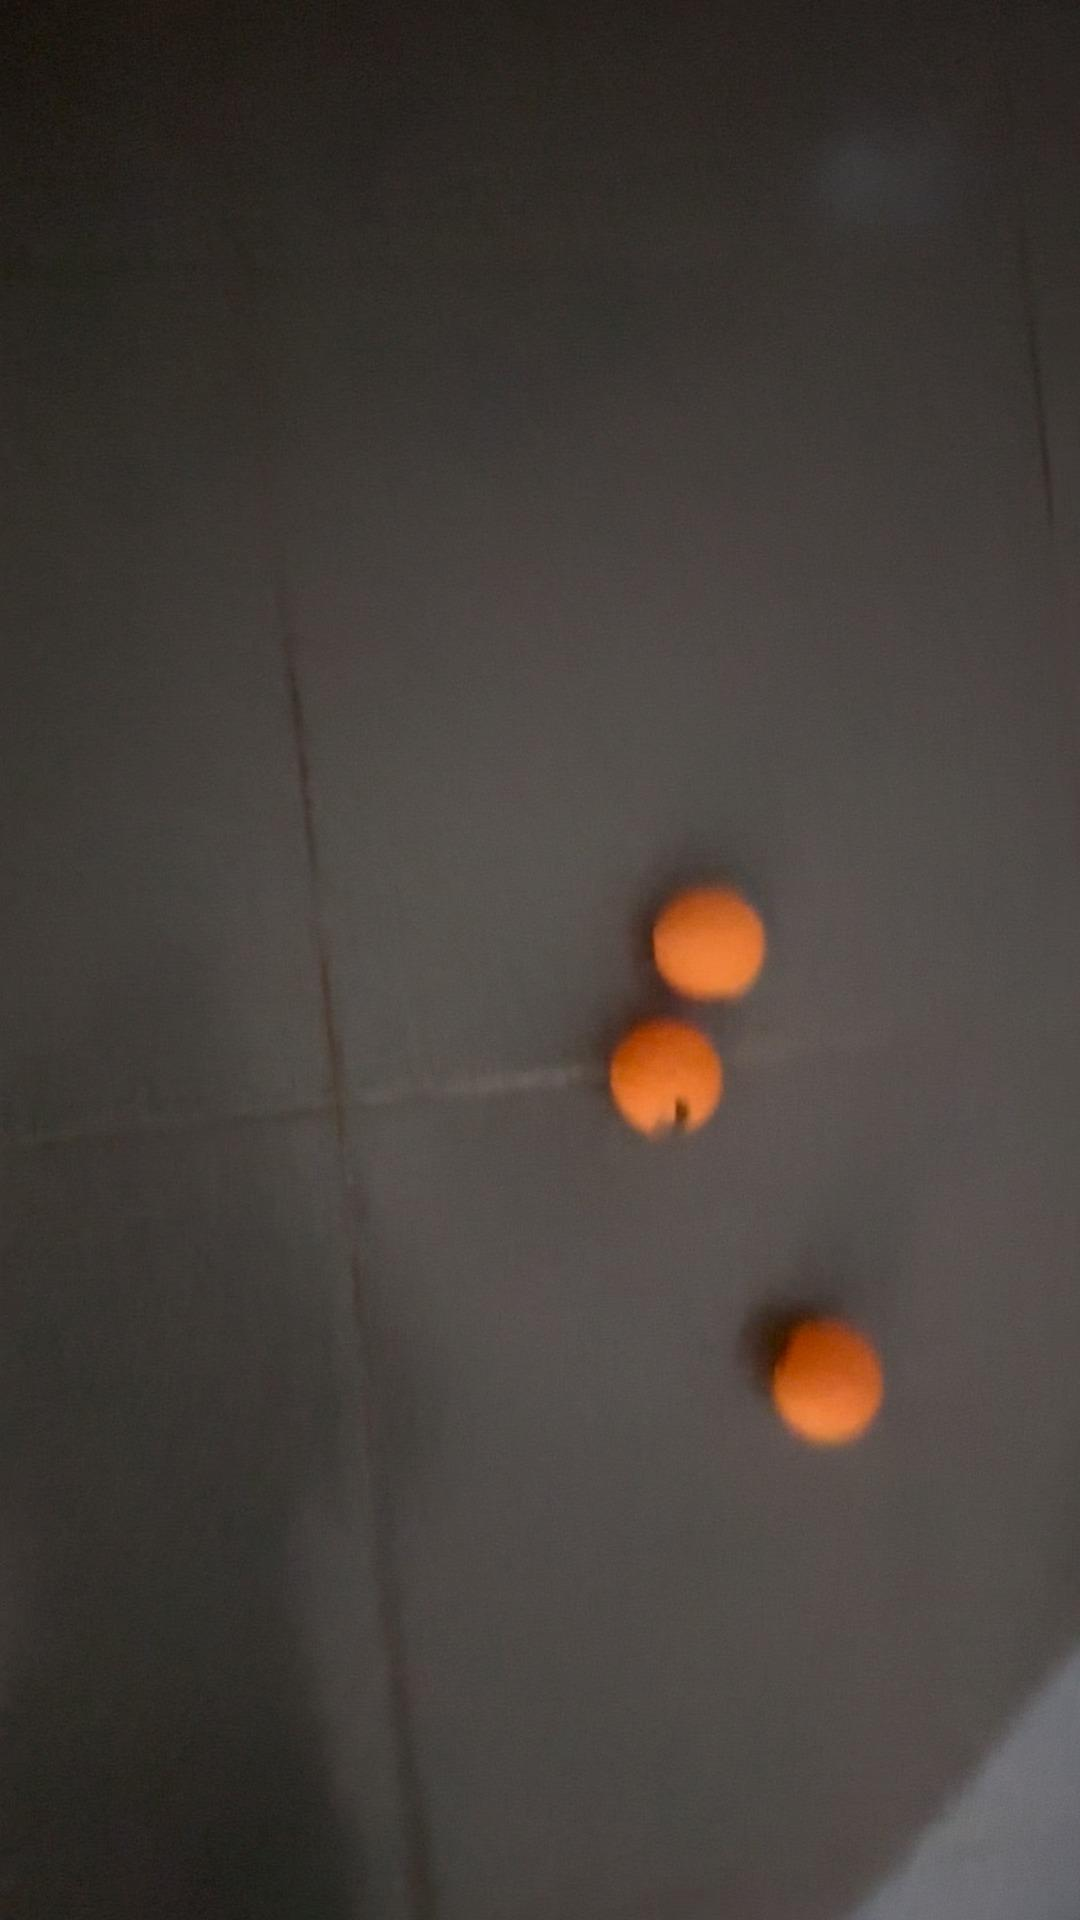oball: (761, 1315, 897, 1455), (632, 885, 773, 1006), (613, 1018, 717, 1137)
